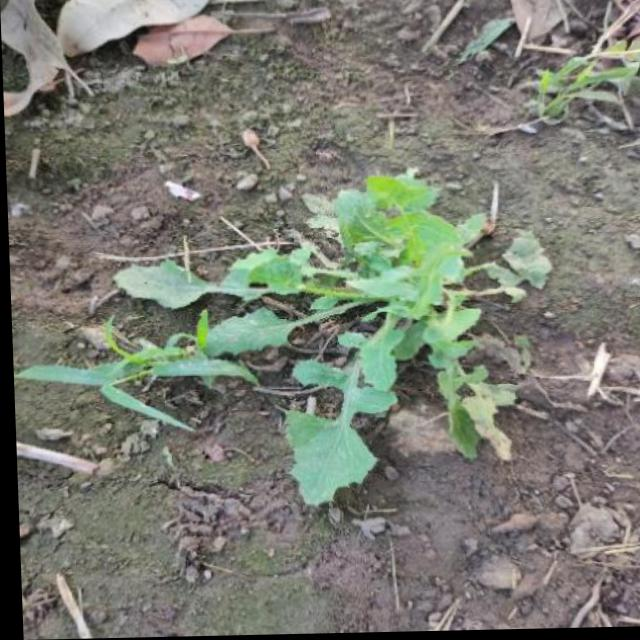weed: (96, 158, 572, 501)
